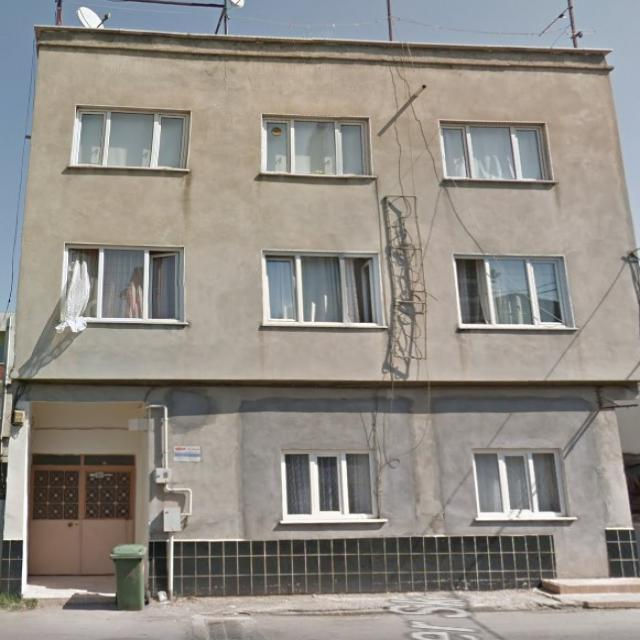Building: (2, 26, 640, 609)
